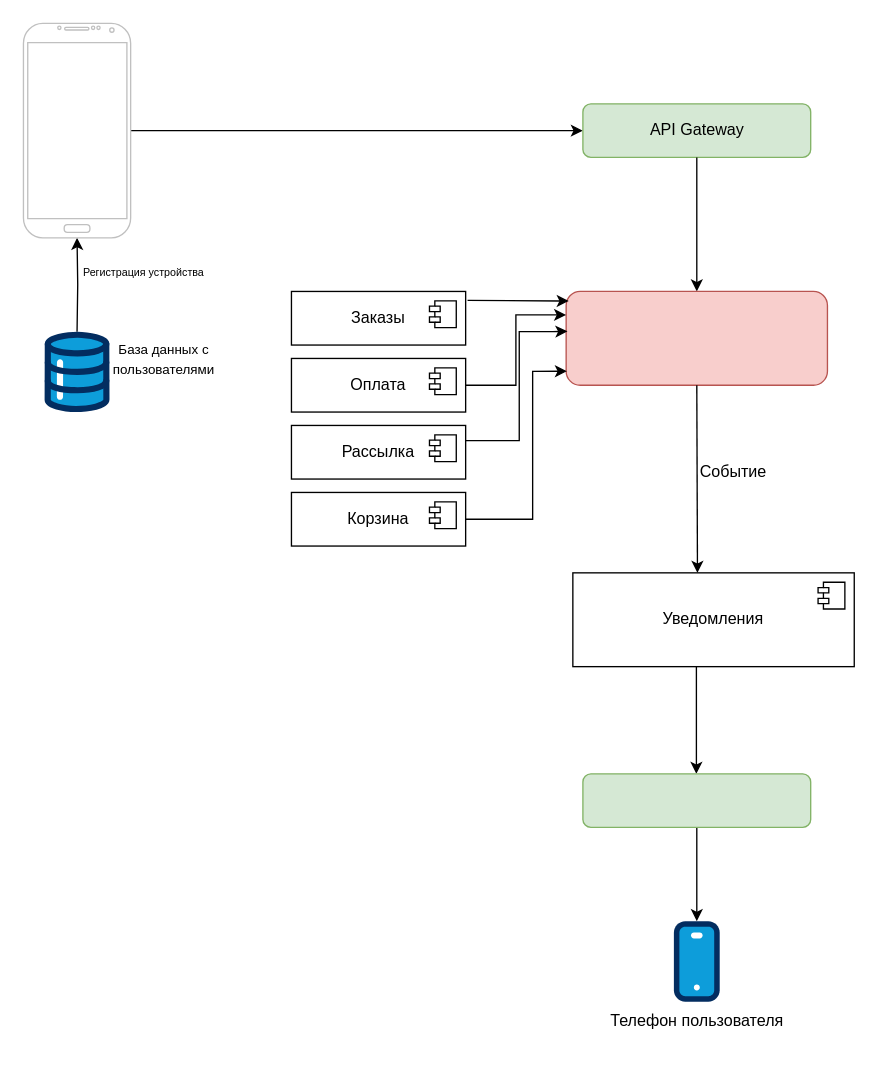
Image size: 878x1065. Some labels were removed from this diagram. Each missing label, with the centre of its shape:
"Message Broker (Kafka/RabbitMQ)" belongs at point 696,337.
"Push provider" belongs at point 696,800.
"Мобильное приложение" belongs at point 76,130.
